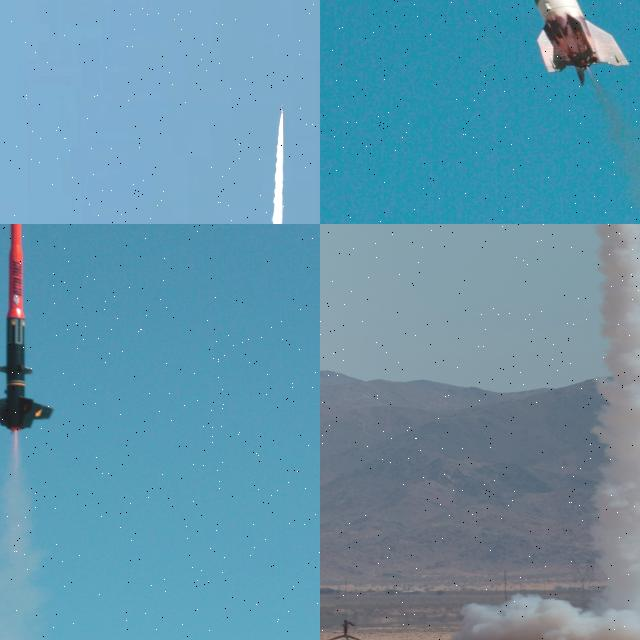Rocket: (0, 224, 55, 434), (499, 0, 631, 86), (281, 104, 284, 116)
